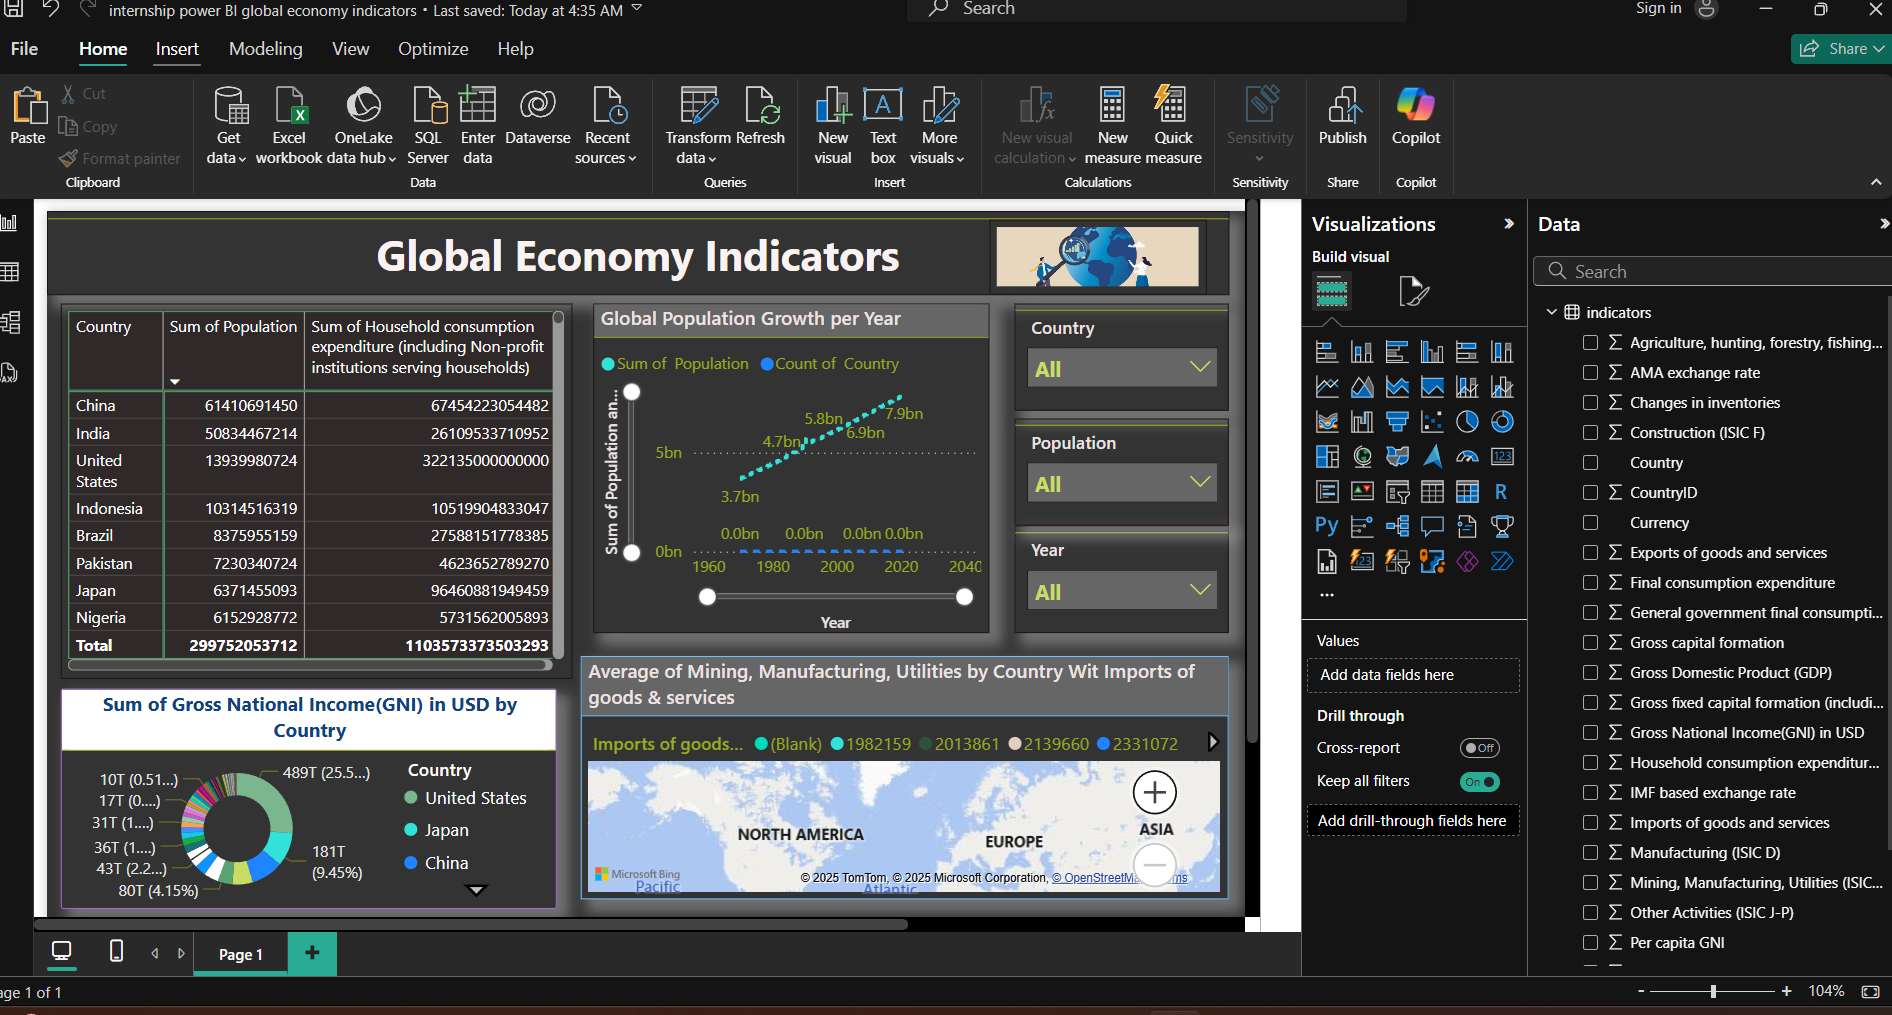

What the dashboard file says about the page in this screenshot:
{"tool":"powerbi","page":{"name":"Indicators","canvas":[1280,720],"ordinal":0},"visuals":[{"type":"donutChart","fields":{"Category":["indicators. Country "],"Y":["Sum(indicators. Gross National Income(GNI) in USD )"]},"box":[10.6,367.3,381.7,169.2],"z":0},{"type":"textbox","box":[0,0,909.6,64.4],"z":1000},{"type":"pivotTable","fields":{"Rows":["indicators. Country "],"Values":["Sum(indicators. Population )","Sum(indicators. Household consumption expenditure (including Non-profit institutions serving households) )"]},"box":[10.6,71.2,393.3,288.5],"z":2000},{"type":"slicer","fields":{"Values":["indicators. Country "]},"box":[744.2,71.2,164.4,82.7],"z":3000},{"type":"slicer","fields":{"Values":["indicators. Year "]},"box":[744.2,242.3,164.4,82.7],"z":4000},{"type":"slicer","fields":{"Values":["indicators. Population "]},"box":[744.2,159.6,164.4,82.7],"z":5000},{"type":"filledMap","title":"Average of  Mining, Manufacturing, Utilities by  Country Wit Imports of goods & services ","fields":{"Category":["indicators. Country "],"Series":["indicators. Imports of goods and services "]},"box":[403.8,331.7,251,204.8],"z":6000},{"type":"lineChart","title":"Global Population Growth  per Year ","fields":{"Category":["indicators. Year "],"Y":["Sum(indicators. Population )","CountNonNull(indicators. Country )"]},"box":[420.2,71.2,304.8,253.8],"z":7000},{"type":"image","box":[725,6.7,167.3,57.7],"z":8000},{"type":"areaChart","fields":{"Y":["Sum(indicators. Household consumption expenditure (including Non-profit institutions serving households) )"],"Category":["indicators. Gross Domestic Product (GDP) "]},"box":[662.5,331.7,247.1,225],"z":8001}]}

Visuals, with their boxes on the page's 1280x720 design canvas (x1, y1, x2, y2). These are canvas units, not pixel positions in the 1892x1015 screenshot, which may show the page scaled, cropped or inside an application window:
donutChart - indicators. Country  x Sum(indicators. Gross National Income(GNI) in USD ): 11,367,392,536
textbox: 0,0,910,64
pivotTable - indicators. Country  x Sum(indicators. Population ): 11,71,404,360
slicer - indicators. Country : 744,71,909,154
slicer - indicators. Year : 744,242,909,325
slicer - indicators. Population : 744,160,909,242
"Average of  Mining, Manufacturing, Utilities by  Country Wit Imports of goods & services " filledMap: 404,332,655,536
"Global Population Growth  per Year " lineChart: 420,71,725,325
image: 725,7,892,64
areaChart - Sum(indicators. Household consumption expenditure (including Non-profit institutions serving households) ) x indicators. Gross Domestic Product (GDP) : 662,332,910,557
